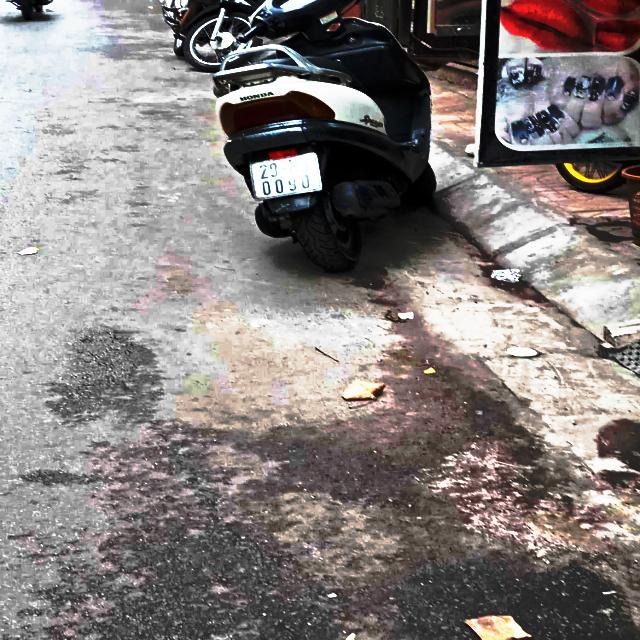license_plate: (242, 147, 328, 207)
